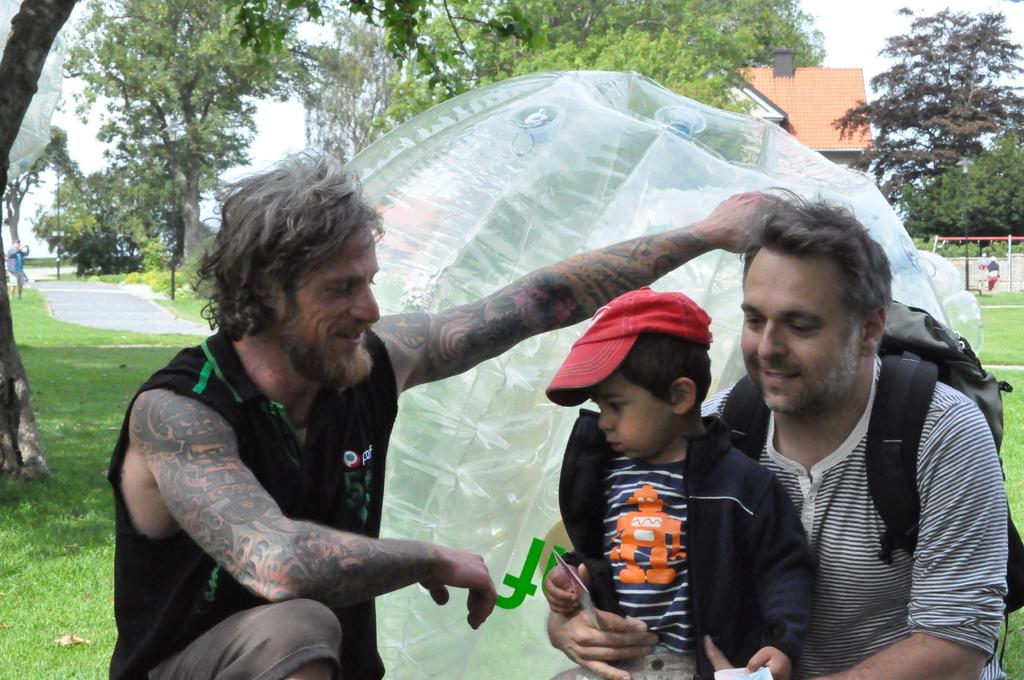Hat: (546, 283, 716, 408)
